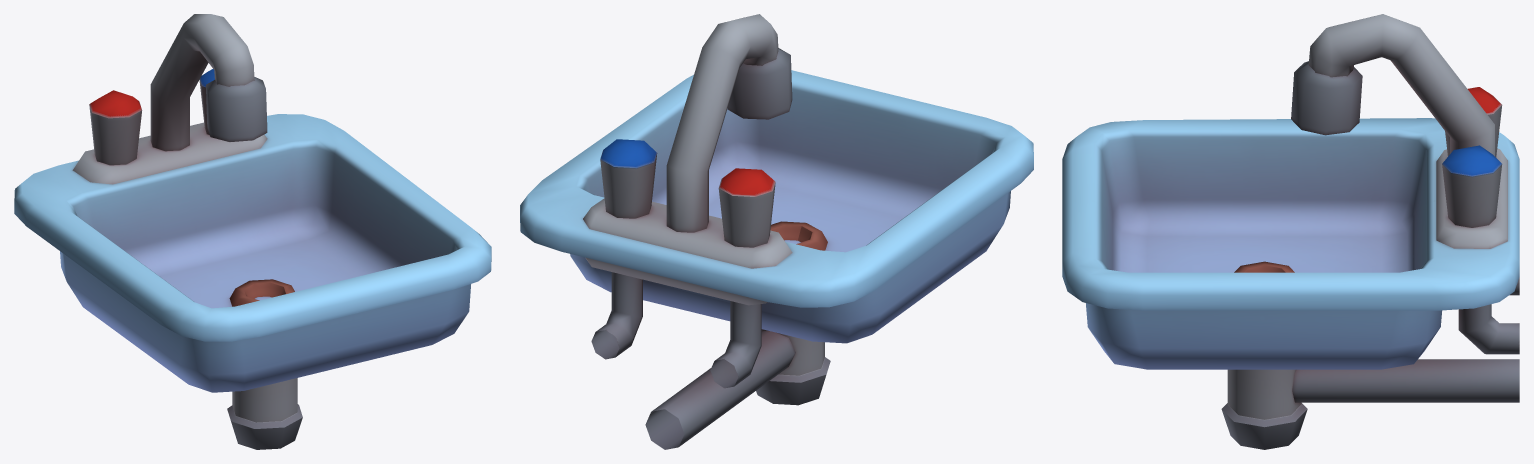
Rendered from sink_01.fbx.
3 views of the same model, side by side, from view 1: azimuth 30°, elevation 25°; view 2: azimuth 150°, elevation 25°; view 3: azimuth 270°, elevation 25° (orthographic). The views are drawn at different scales.
Visible parts, largest first — view 1: sink_01_ready; view 2: sink_01_ready; view 3: sink_01_ready.
Part boxes in pixels (x1,y1,x2,y2): sink_01_ready: [14, 14, 491, 449]; sink_01_ready: [520, 14, 1033, 449]; sink_01_ready: [1062, 14, 1519, 449].
Size of the model in its own units: 75 by 88.98 by 85.
